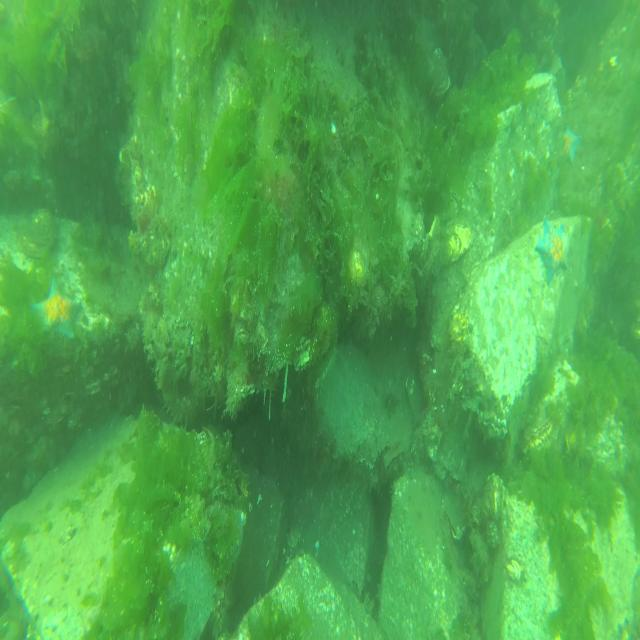scallop: (523, 416, 561, 460)
starfish: (30, 270, 81, 345), (534, 214, 569, 287), (562, 124, 582, 167)
